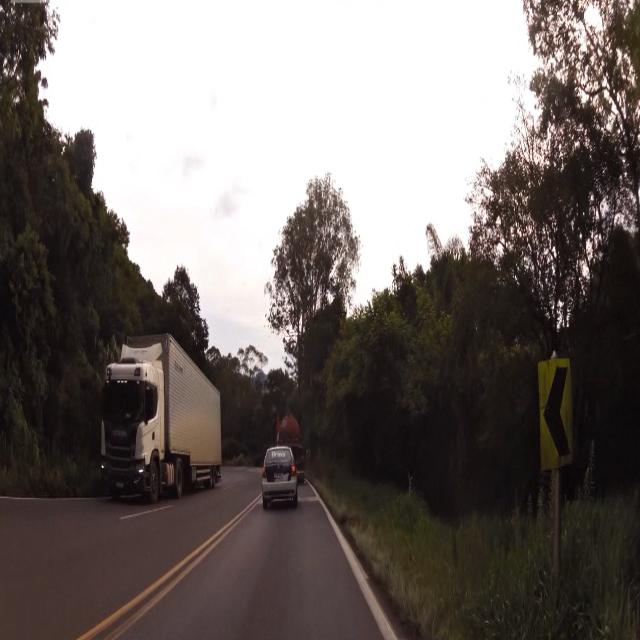Del: (537, 356, 572, 476)
